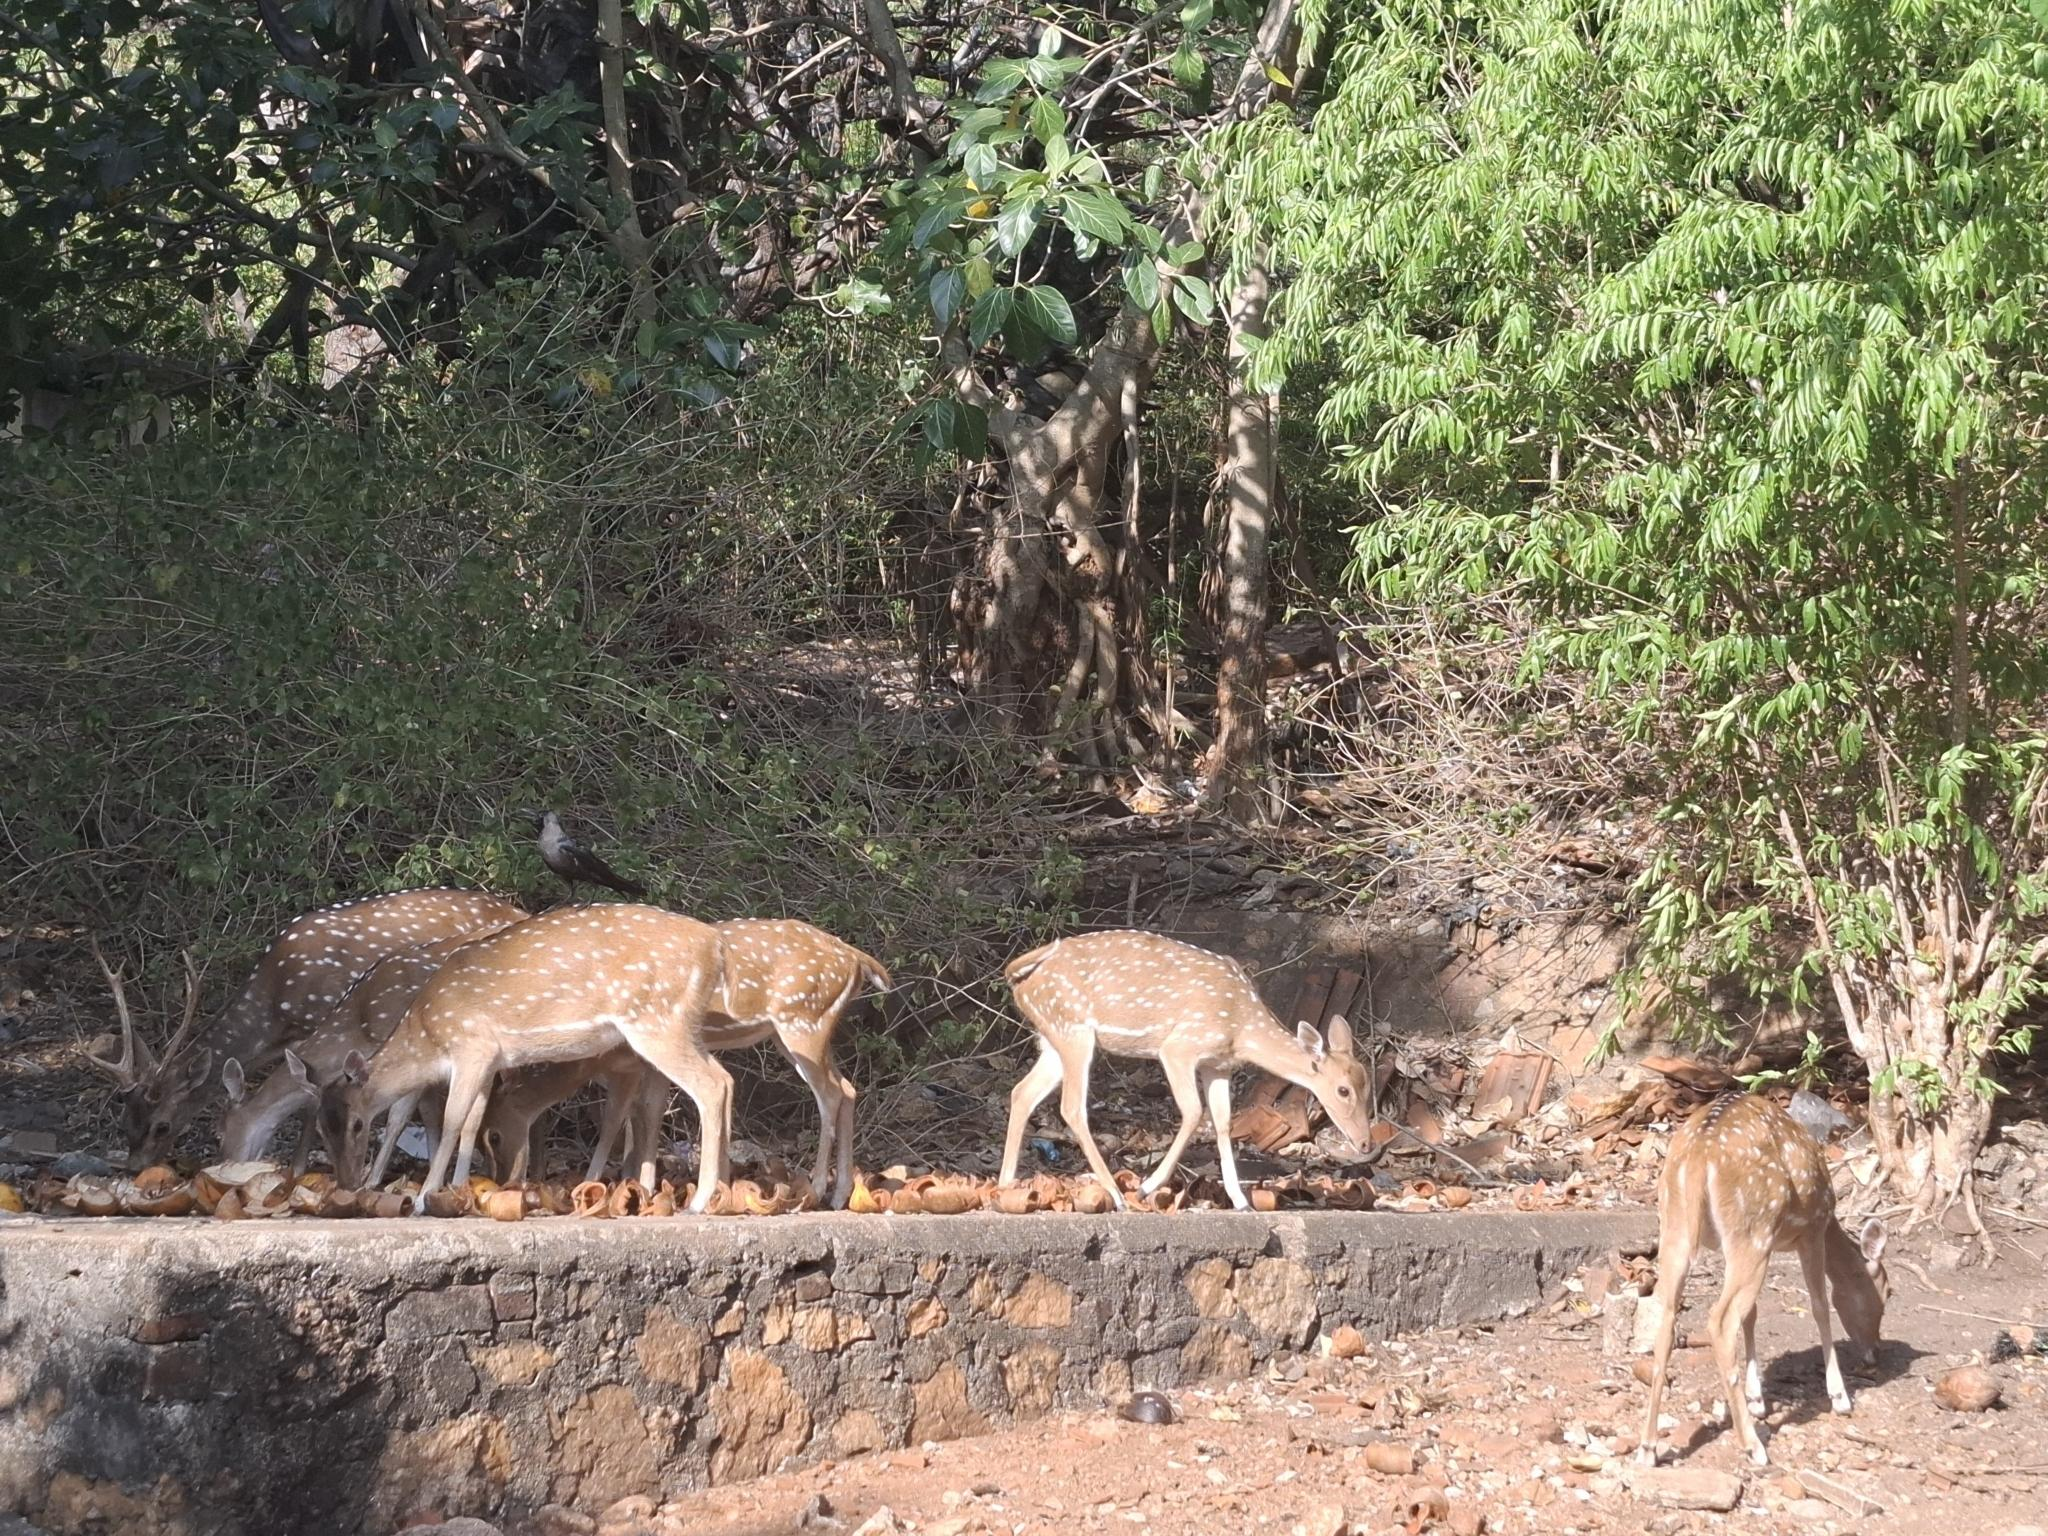Deer: (285, 905, 731, 1212), (90, 887, 529, 1168), (998, 929, 1371, 1208), (1642, 1094, 1887, 1465)
